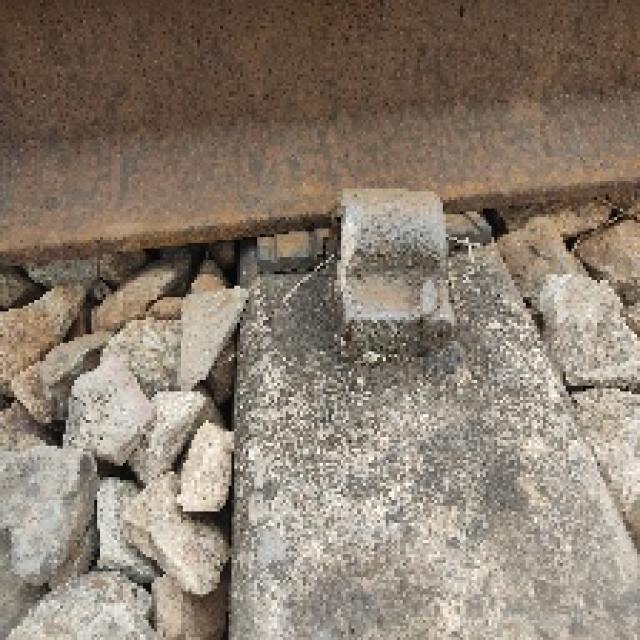Missing Fastener: (314, 179, 488, 401)
